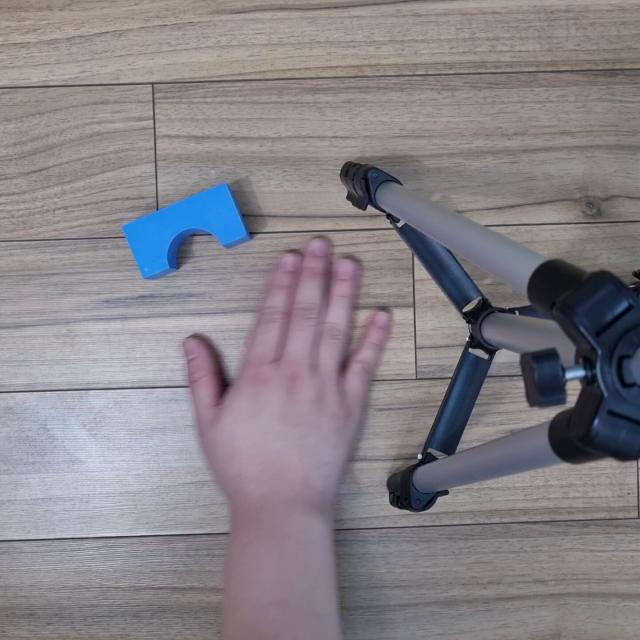block: (119, 174, 266, 291)
hand: (204, 233, 398, 526)
